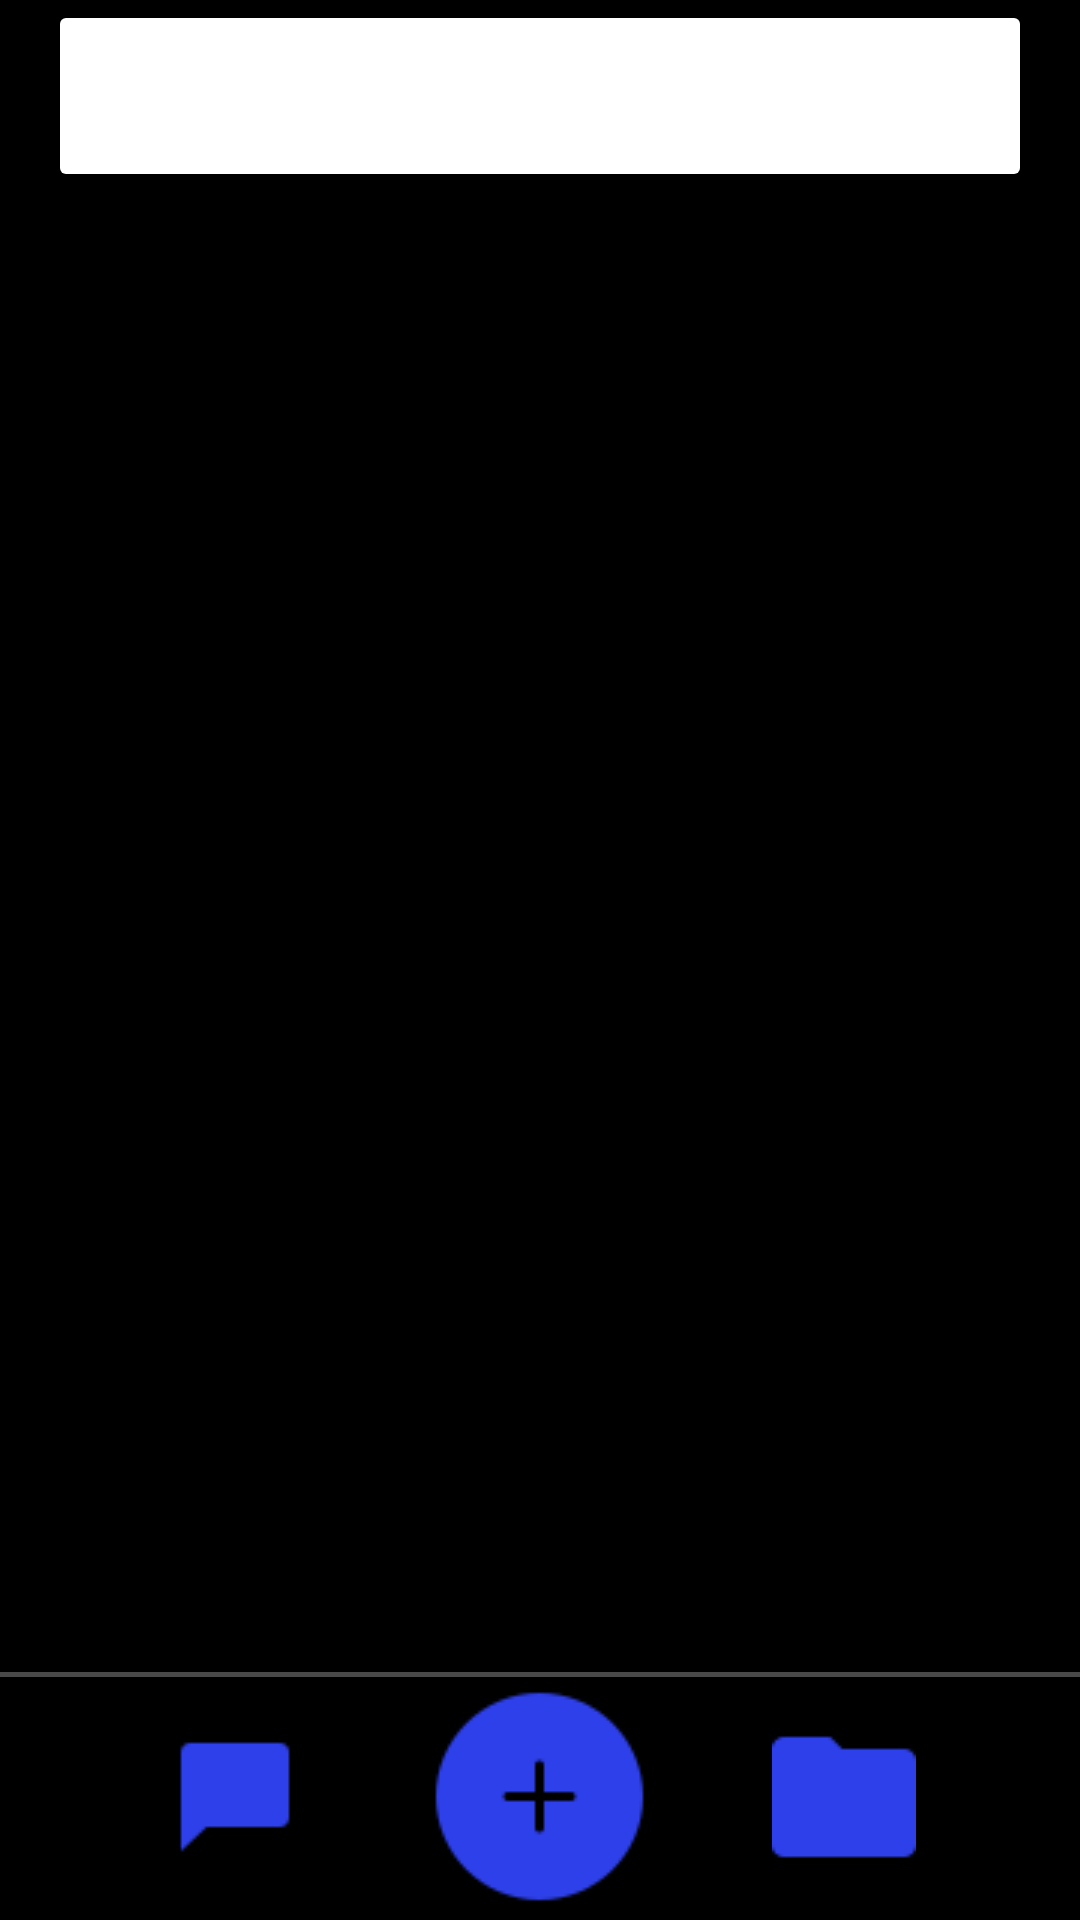

Icon bounding boxes for this 1080x1920 phone screenshot, format (x1, y1, x2, y2):
Add Document: (435, 1692, 644, 1901)
Folder: (772, 1736, 916, 1858)
